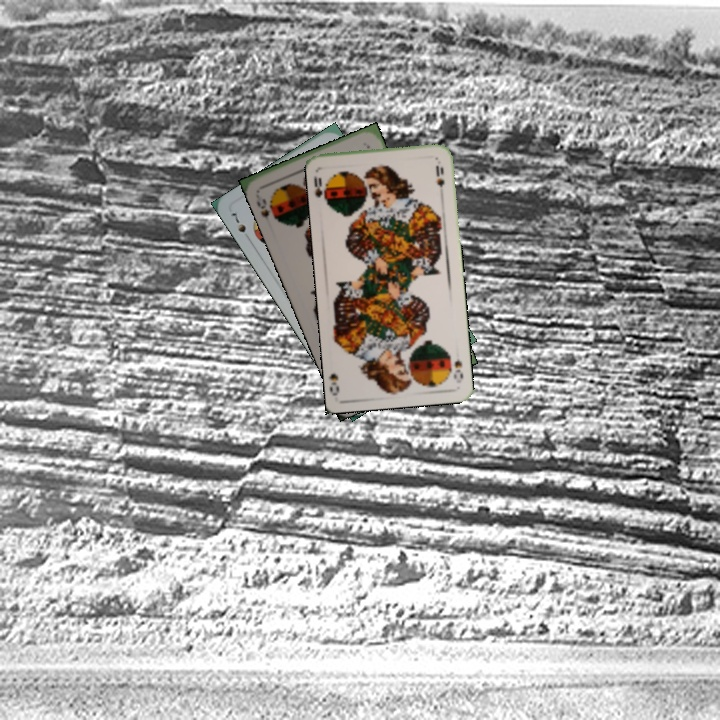S7: (227, 209, 249, 235)
SO: (252, 195, 281, 228), (310, 172, 332, 208), (449, 354, 466, 381)
